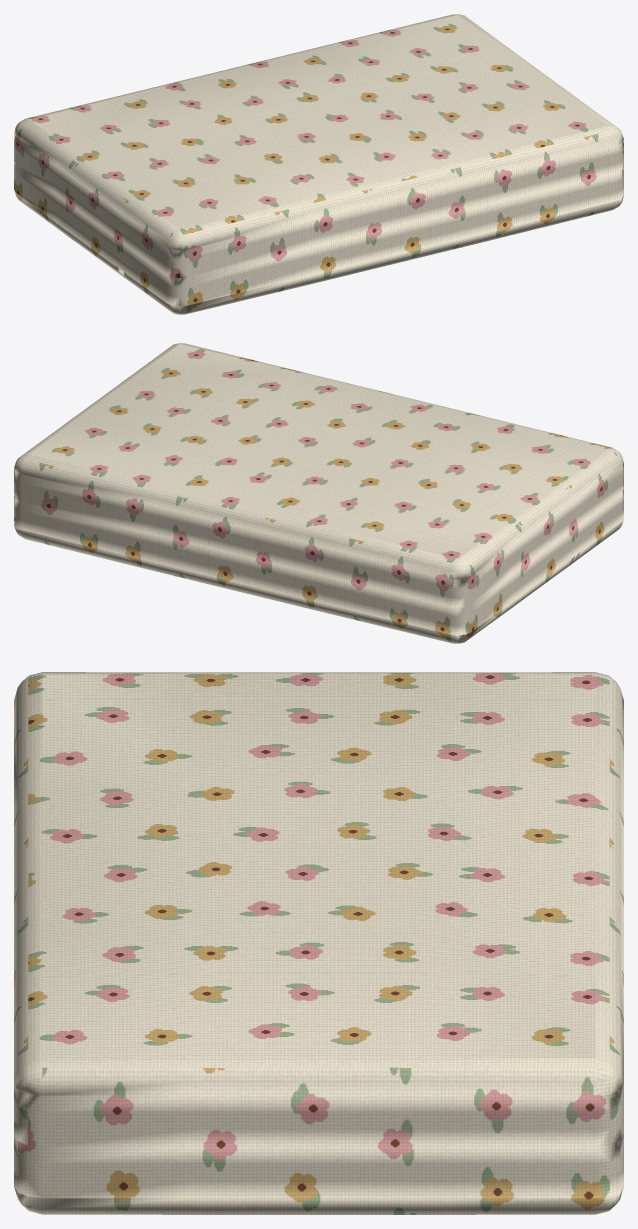
Rendered from Goi_BoMe_Me.glb.
The picture shows the model from 3 angles, top to bottom: view 1: azimuth 30°, elevation 25°; view 2: azimuth 150°, elevation 25°; view 3: azimuth 270°, elevation 25°; orthographic projection. The views are drawn at different scales.
Visible parts, largest first — view 1: geometry_0; view 2: geometry_0; view 3: geometry_0.
Part boxes in pixels (bbox=[...]): geometry_0: bbox=[14, 14, 623, 314]; geometry_0: bbox=[14, 343, 623, 643]; geometry_0: bbox=[14, 672, 623, 1214].
Bounding box in the file's own units: 0.49 × 0.0995 × 0.31.
1 material, 1 textured.
